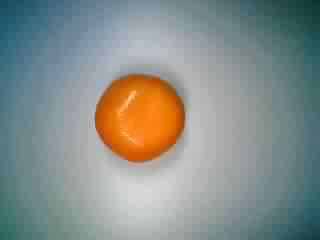orange: (91, 63, 186, 165)
